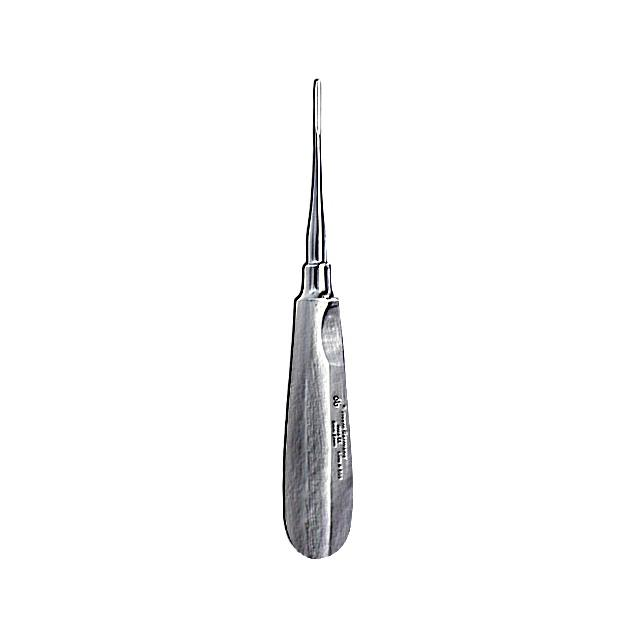botador: (281, 75, 355, 562)
